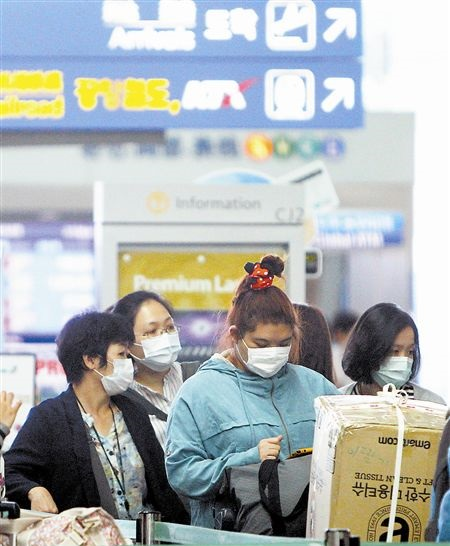face_mask: (139, 305, 181, 370), (243, 320, 290, 377), (377, 326, 416, 386), (98, 337, 134, 393)
